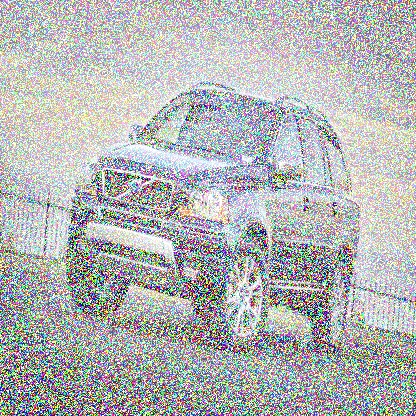Vehicle: (66, 84, 361, 353)
